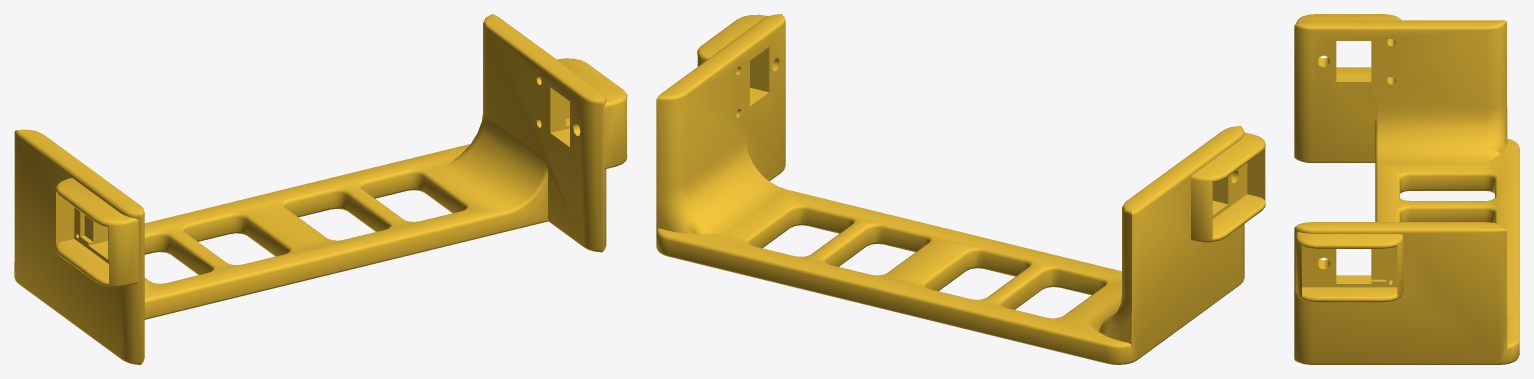
The model's file is shoulder_bar_onepiece_1.dae.
3 renders of one model, left to right at view 1: azimuth 30°, elevation 25°; view 2: azimuth 150°, elevation 25°; view 3: azimuth 270°, elevation 25°, orthographic. The views are drawn at different scales.
Parts seen in each view (by area): view 1: node0; view 2: node0; view 3: node0.
Boxes of the visible parts, left/top/right/bottom form: node0: left=14, top=14, right=627, bottom=364; node0: left=656, top=14, right=1265, bottom=364; node0: left=1294, top=14, right=1519, bottom=364.
Size of the model in its own units: 0.266 by 0.073 by 0.1093.
